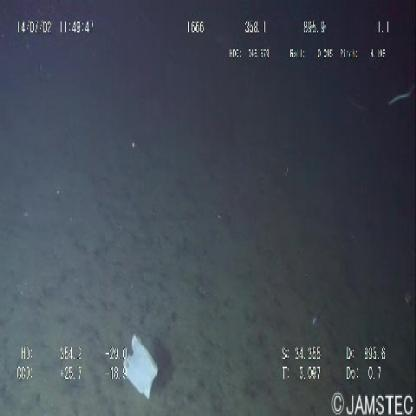Rác: (118, 327, 163, 405)
